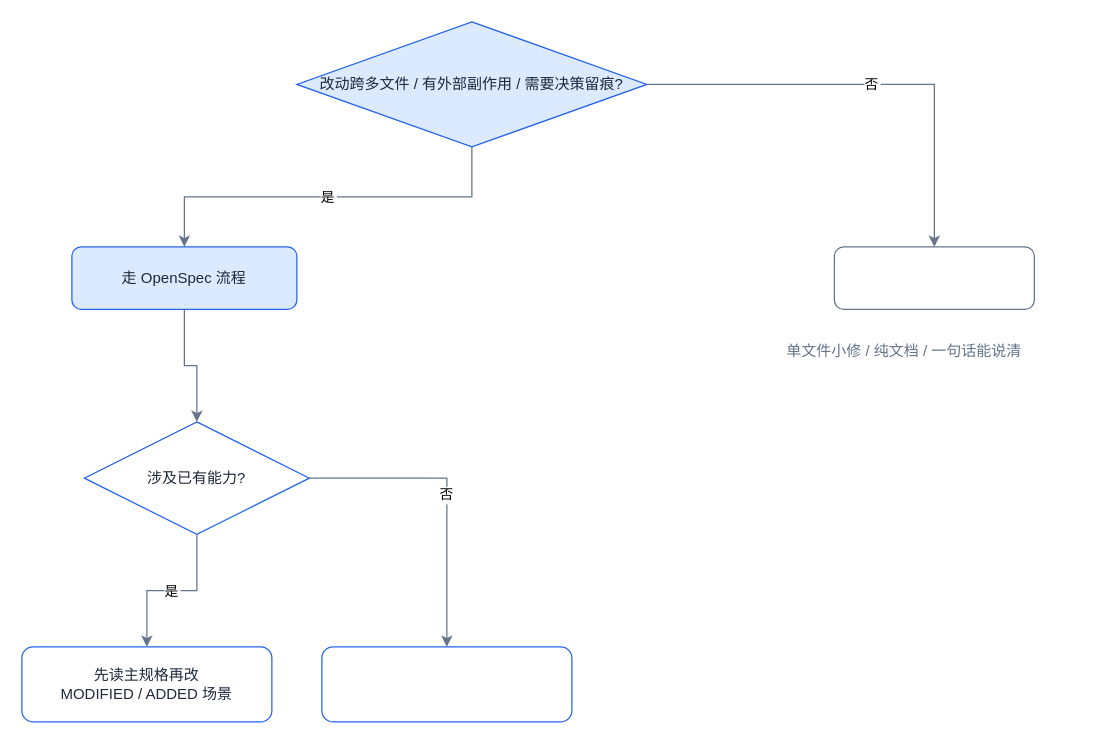
Image size: 1106x744. Some labels were removed from this diagram. The shapes that lost their labels are listed below. From the top down, each one's box as (x1, y1, x2, y2) in pixels, then its label:
(833, 246, 1034, 309): 直接改
(321, 646, 572, 722): 新增能力分支 建新主规格
